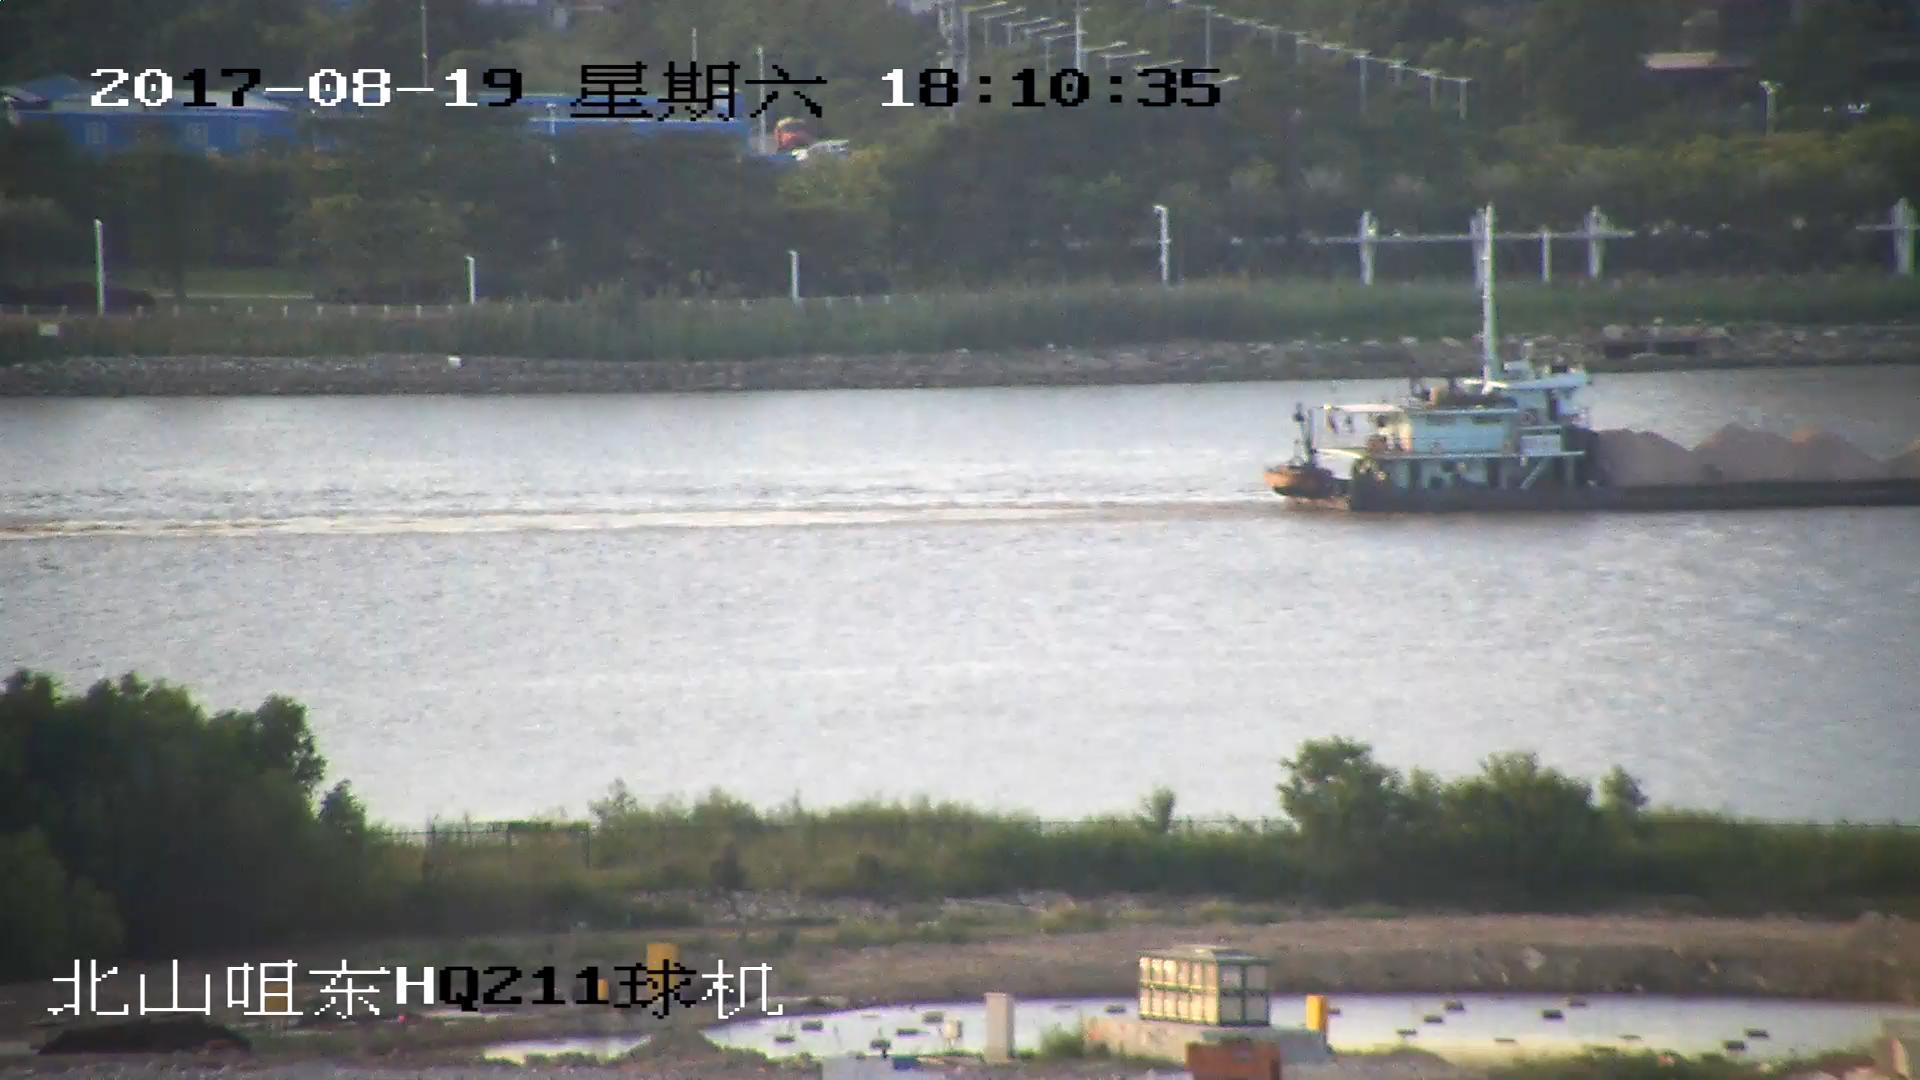Ship: (1269, 215, 1920, 514)
